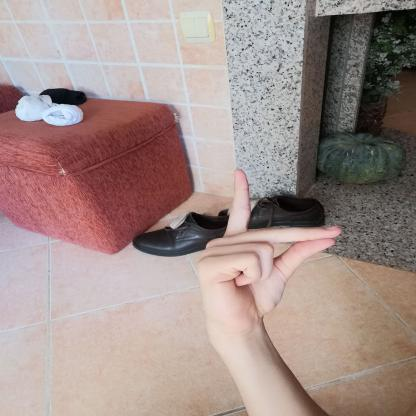TAA: (185, 162, 350, 332)
